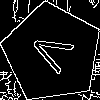V: (27, 28, 83, 79)
